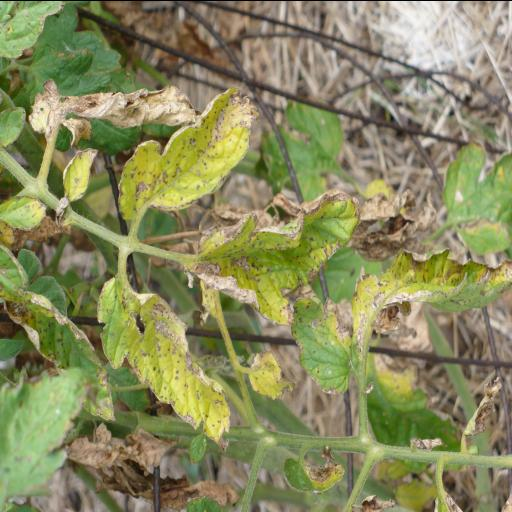Septoria: (288, 244, 512, 394), (94, 262, 240, 458), (196, 182, 362, 328), (115, 84, 259, 222), (0, 283, 116, 425), (0, 364, 91, 512), (0, 0, 67, 58), (246, 348, 296, 400), (60, 146, 102, 200), (0, 192, 48, 233)
